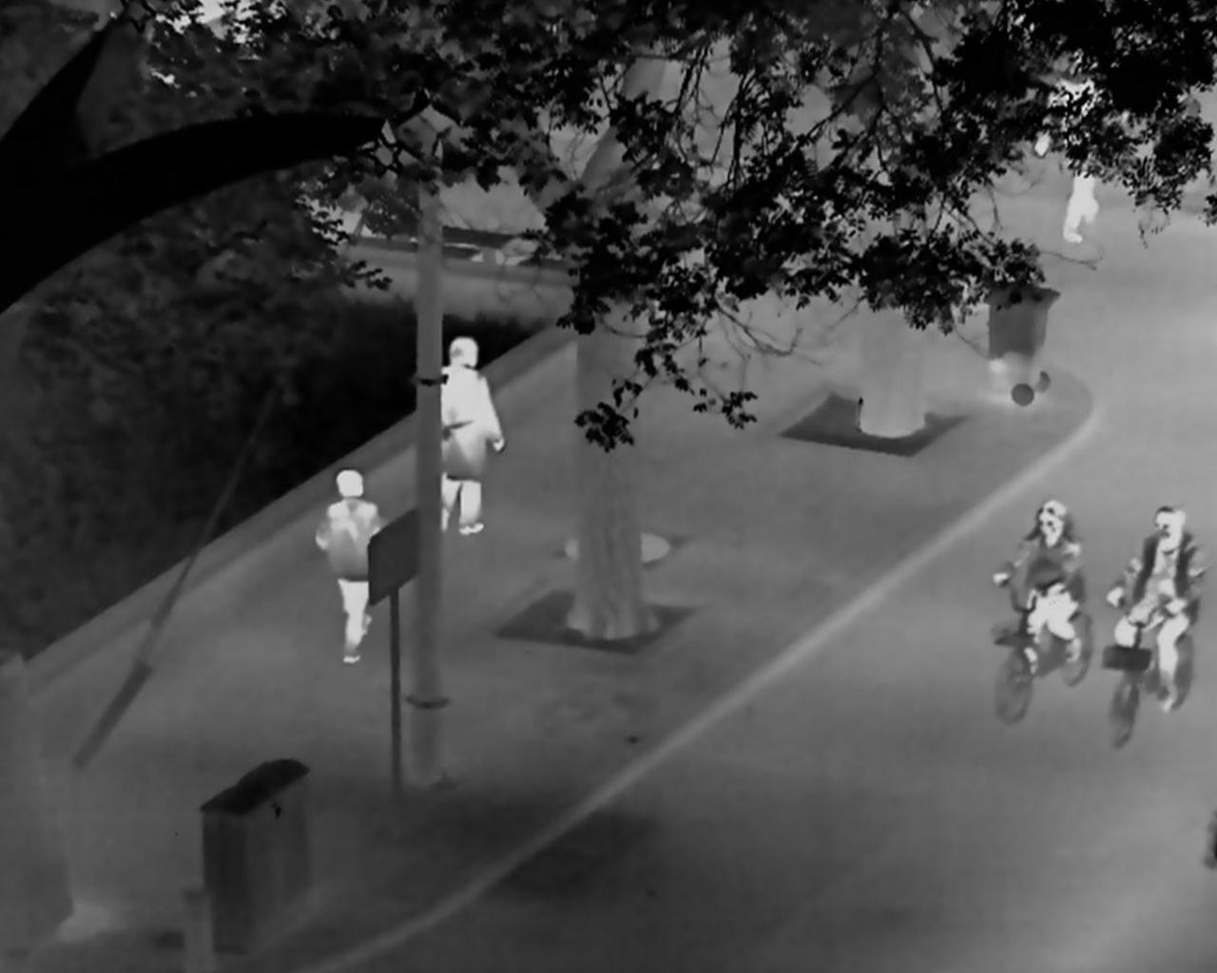person: (1103, 504, 1207, 711), (991, 500, 1086, 674), (314, 467, 394, 665), (1034, 51, 1110, 244), (440, 333, 507, 535)
